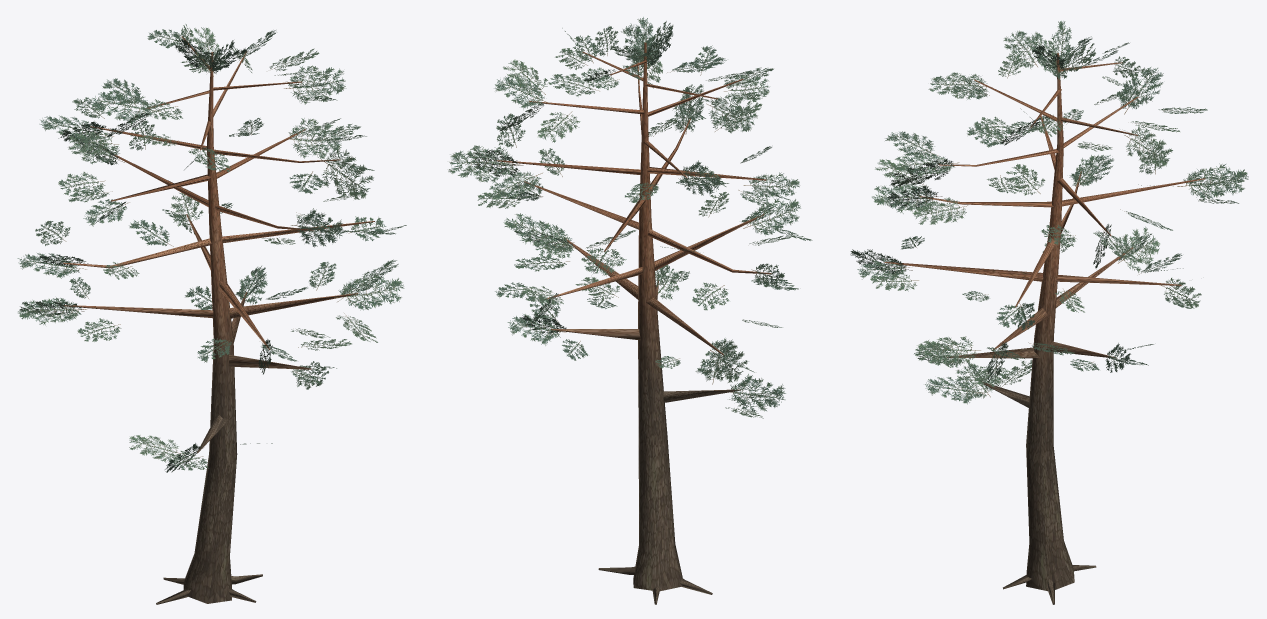
Rendered from tree-pine-1_lod1.glb.
3 views of the same model, side by side, from view 1: azimuth 30°, elevation 25°; view 2: azimuth 150°, elevation 25°; view 3: azimuth 270°, elevation 25° (orthographic). The views are drawn at different scales.
Visible parts, largest first — view 1: Scots Pine – Upright LOD1; view 2: Scots Pine – Upright LOD1; view 3: Scots Pine – Upright LOD1.
Part boxes in pixels (bbox=[...]): Scots Pine – Upright LOD1: bbox=[17, 24, 406, 604]; Scots Pine – Upright LOD1: bbox=[448, 17, 812, 604]; Scots Pine – Upright LOD1: bbox=[850, 21, 1248, 604].
Size of the model in its own units: 6.49 by 10 by 6.59.
Materials: 2 (2 with a texture image).
